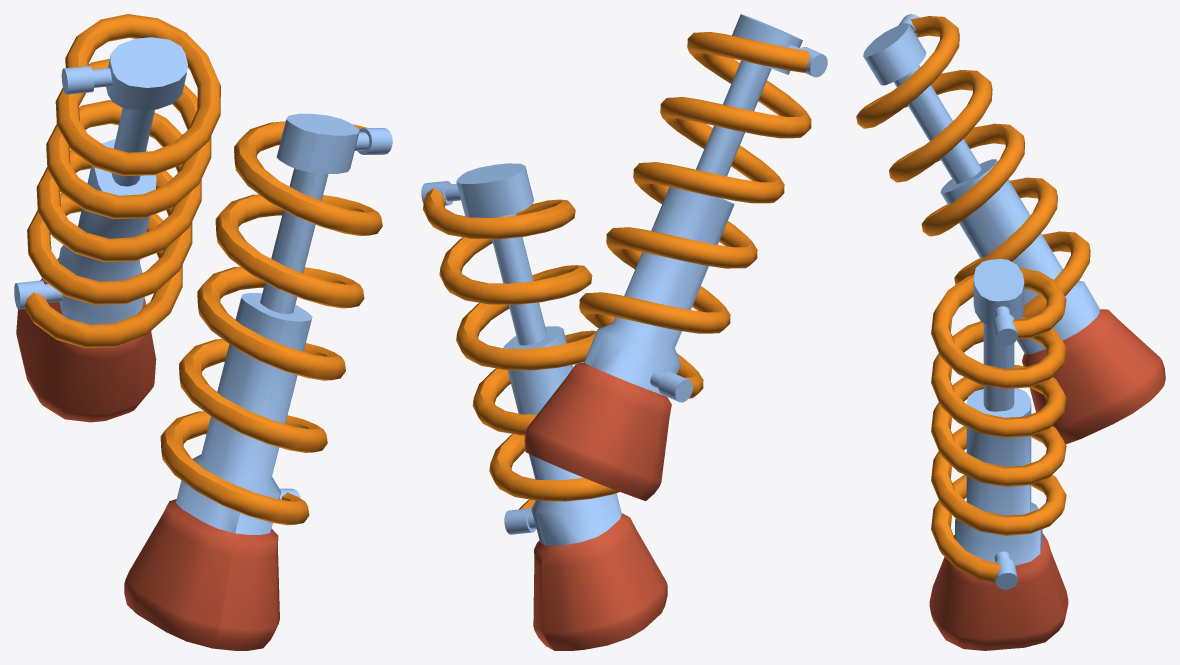
File: SpringsUpgrade_01_mesh.fbx
3 views of the same model, side by side, from view 1: azimuth 30°, elevation 25°; view 2: azimuth 150°, elevation 25°; view 3: azimuth 270°, elevation 25° (orthographic). The views are drawn at different scales.
Visible parts, largest first — view 1: Springs.002; view 2: Springs.002; view 3: Springs.002.
Part boxes in pixels (x1=…): Springs.002: x1=14, y1=14, x2=392, y2=650; Springs.002: x1=421, y1=14, x2=827, y2=650; Springs.002: x1=856, y1=14, x2=1165, y2=650.
Size of the model in its own units: 23.75 by 39.73 by 20.02.
